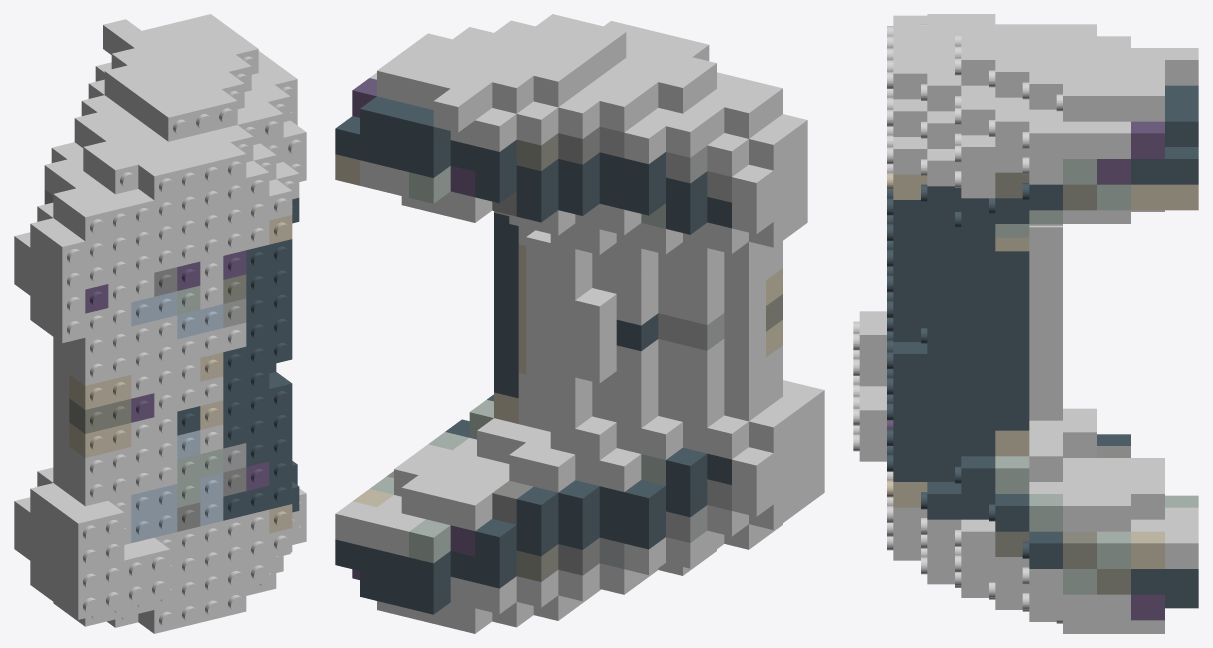
File: full.glb
3 renders of one model, left to right at view 1: azimuth 30°, elevation 25°; view 2: azimuth 150°, elevation 25°; view 3: azimuth 270°, elevation 25°, orthographic. The views are drawn at different scales.
Visible parts, largest first — view 1: world; view 2: world; view 3: world.
Boxes of the visible parts, bbox=[...] form: world: bbox=[14, 14, 306, 633]; world: bbox=[335, 14, 824, 633]; world: bbox=[853, 14, 1198, 633].
Bounding box in the file's own units: 104 × 168 × 97.8.
